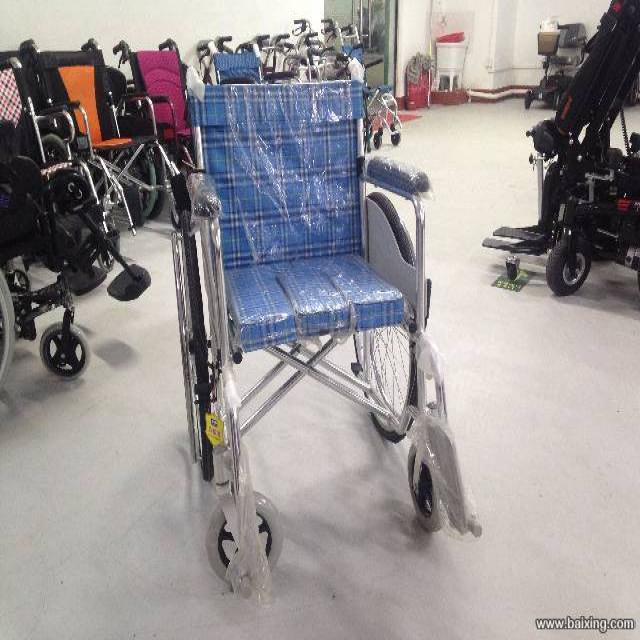wheelchairs: (163, 87, 486, 596)
